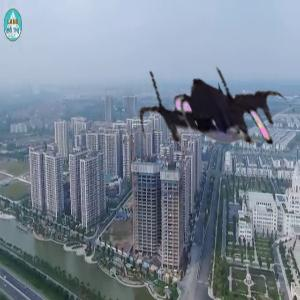drone: (136, 32, 297, 193)
